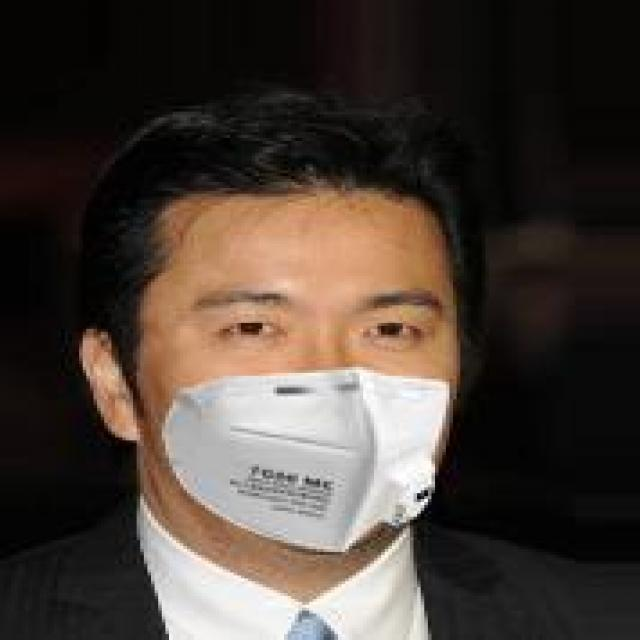mask: (50, 109, 543, 610)
